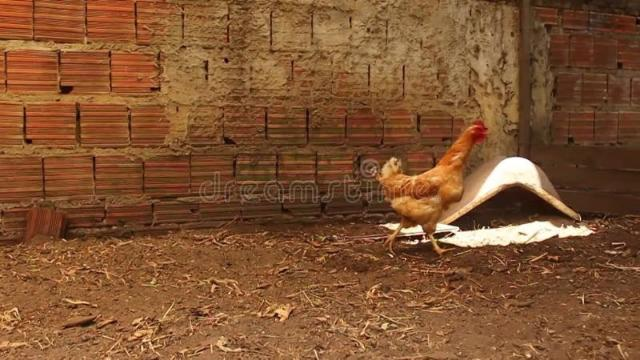Chicken: (377, 119, 493, 255)
